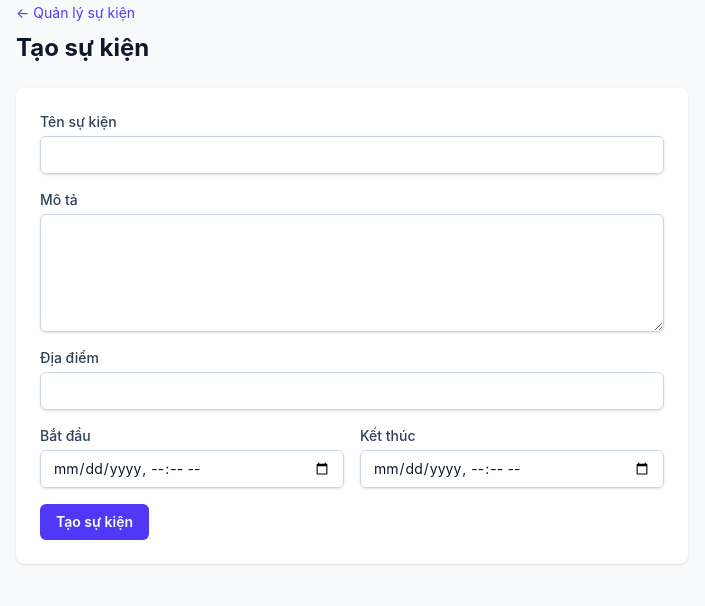
Test case: EventFormPage › ngày kết thúc trước ngày bắt đầu → hiện lỗi, không gọi API
Type "Đêm nhạc Jazz" into the field labelled "Tên sự kiện" at (352, 155), box [40, 136, 664, 174]
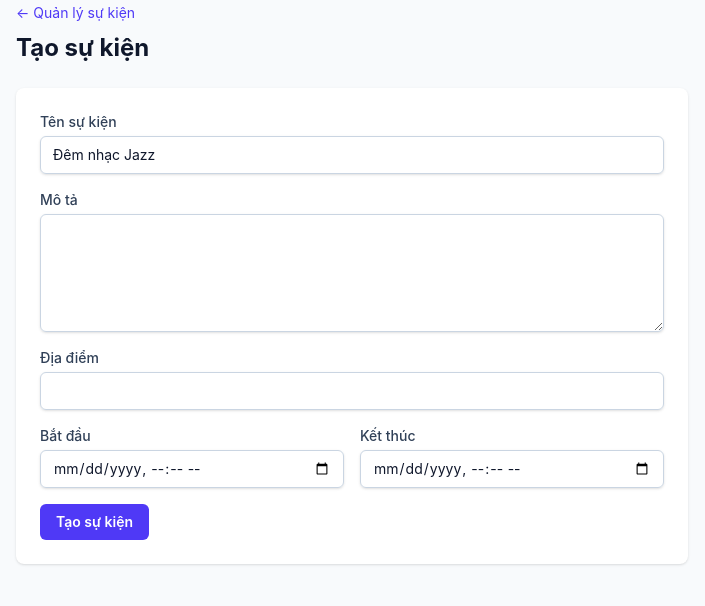
Type "Hòa nhạc ngoài trời" into the text box labelled "Mô tả" at (352, 273), box [40, 214, 664, 332]
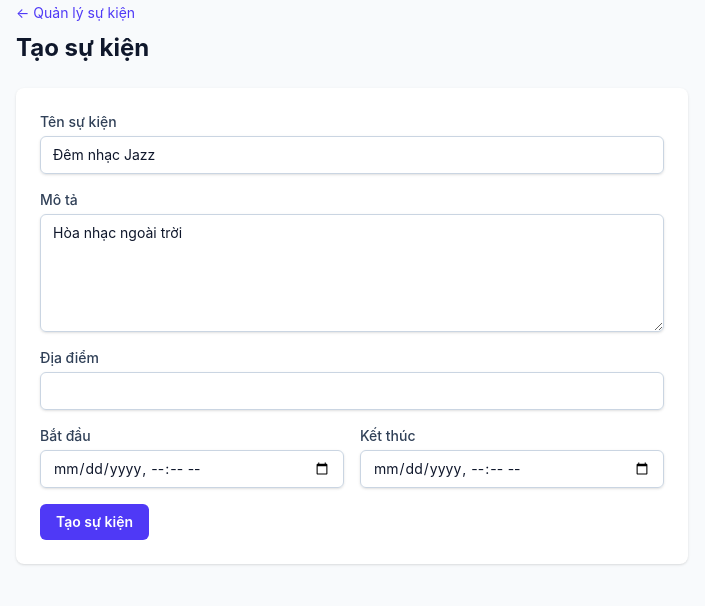
Type "Nhà hát Lớn" into the field labelled "Địa điểm" at (352, 391), box [40, 372, 664, 410]
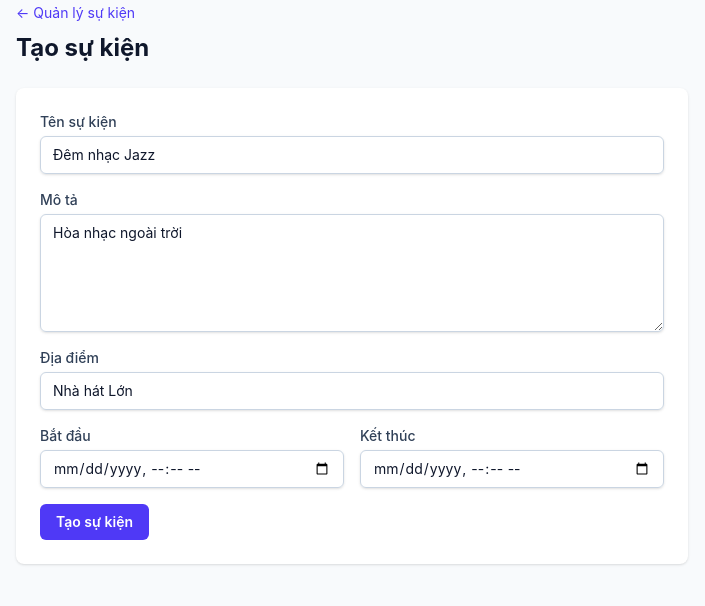
Type "2099-12-01T19:00" into the field labelled "Bắt đầu" at (192, 469), box [40, 450, 344, 488]
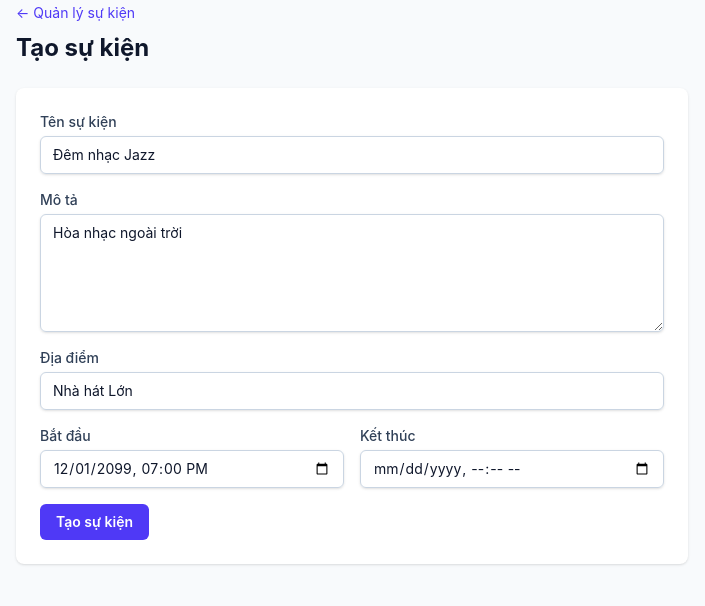
Type "2099-12-01T18:00" into the field labelled "Kết thúc" at (512, 469), box [360, 450, 664, 488]
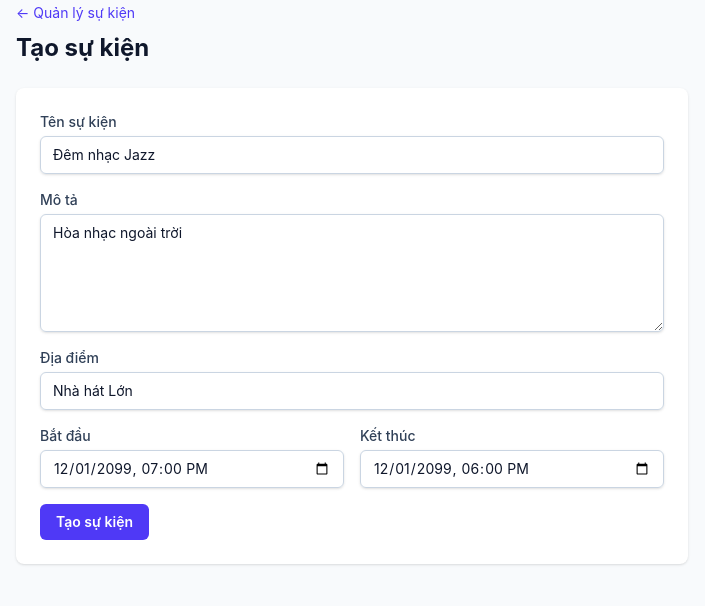
Click the button "Tạo sự kiện" at (95, 522), box [40, 504, 149, 540]
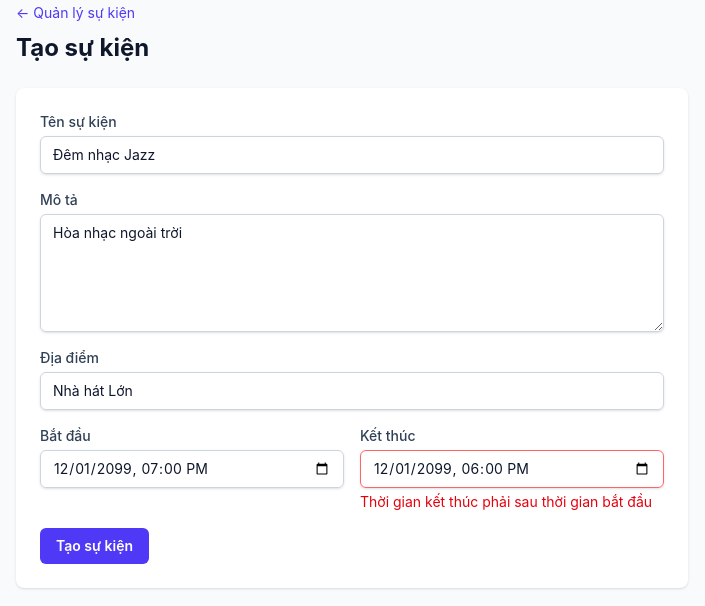
Expected: the text "Thời gian kết thúc phải sau thời gian bắt đầu" is shown, [360, 492, 664, 512]
